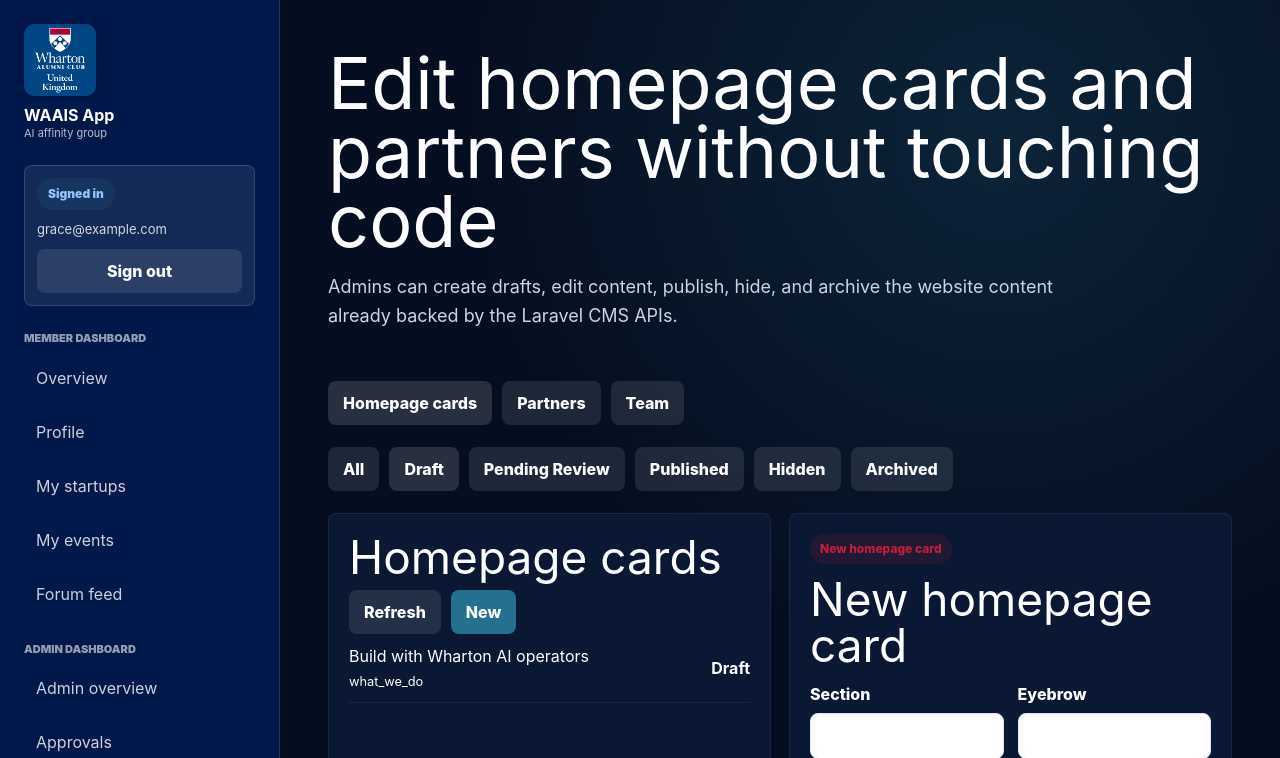
Test: member dashboard live state › switches the admin public content editor to partners
This screenshot has width=1280, height=758.
Click the button "Partners": [551, 403] box [502,381,601,425]
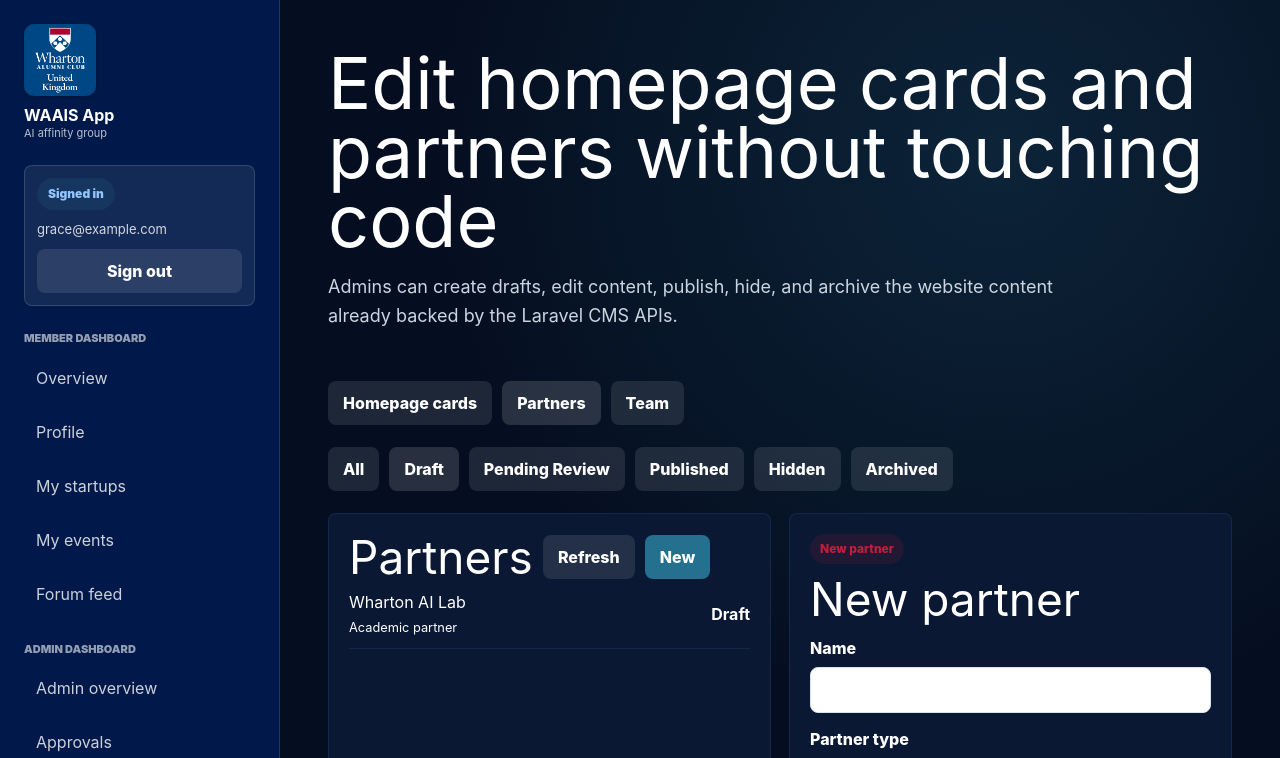
Now the text "Wharton AI Lab" is shown, box [349,592,466,612]
